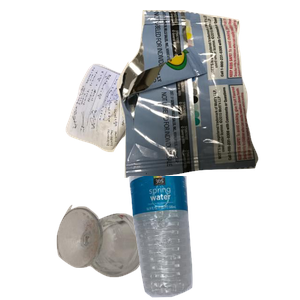glass: (54, 202, 193, 300)
paper: (63, 61, 242, 206)
plastic: (127, 176, 300, 300)
trash: (114, 10, 300, 180)
